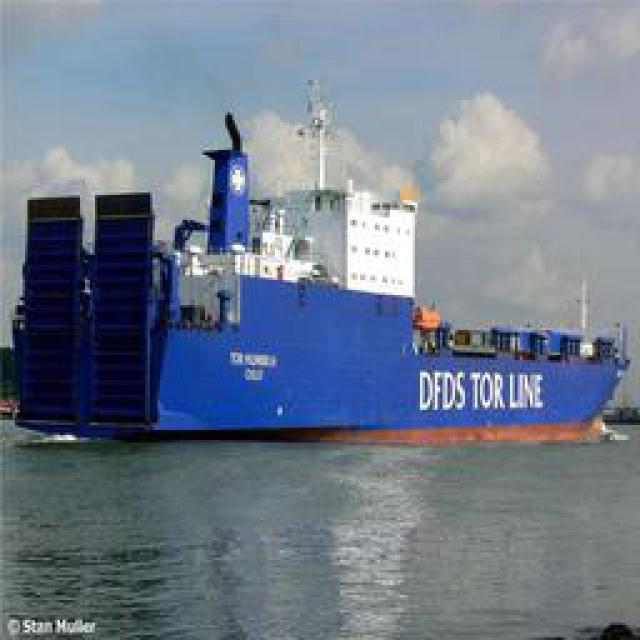Ship: (7, 73, 640, 456)
